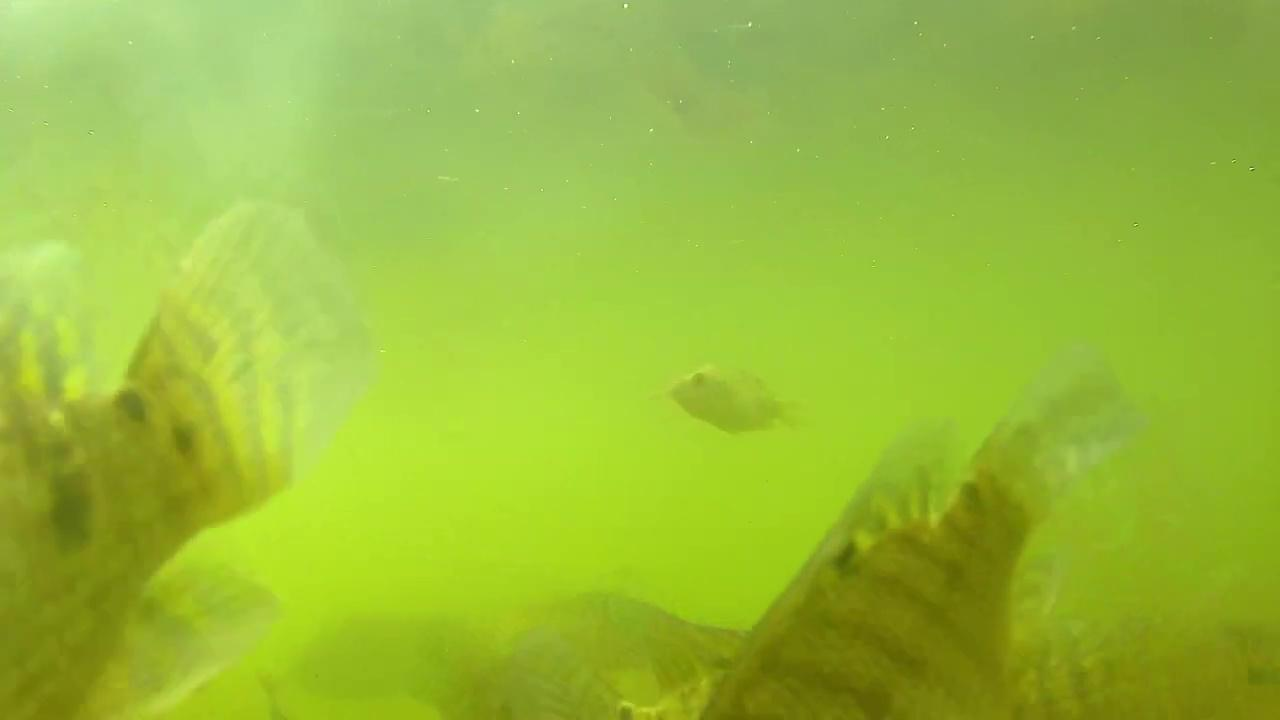Tilapia: (671, 364, 802, 436)
